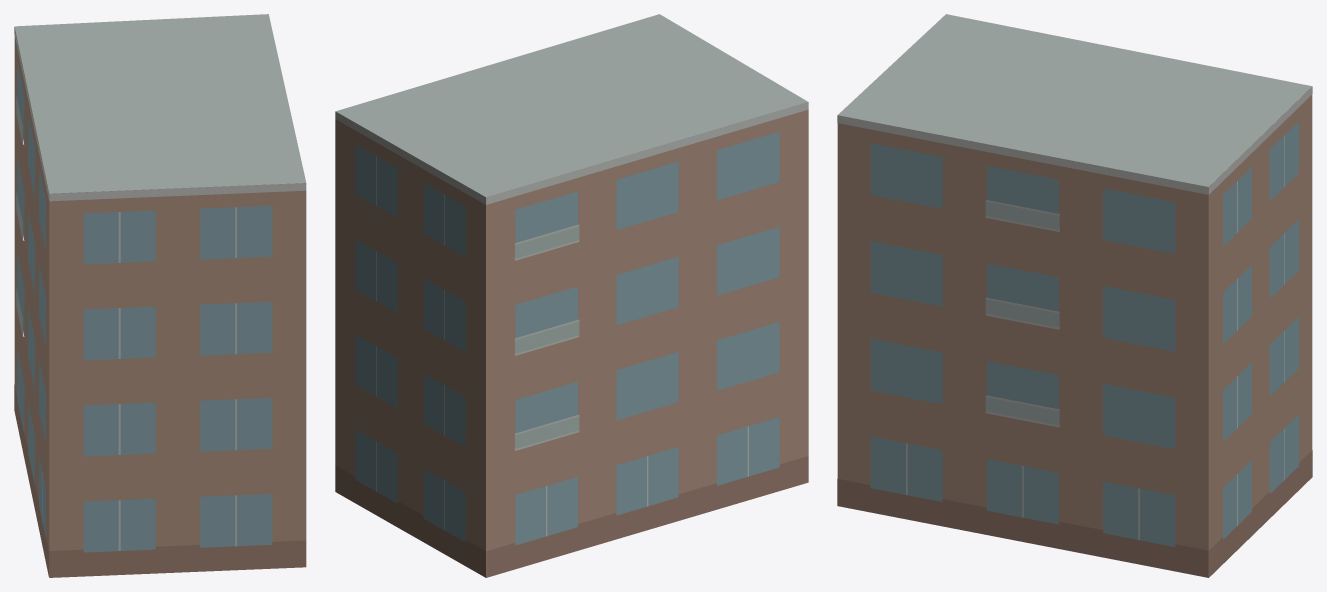
The model's file is survey-upis-32552708.glb.
The picture shows the model from 3 angles, left to right: view 1: azimuth 30°, elevation 25°; view 2: azimuth 150°, elevation 25°; view 3: azimuth 270°, elevation 25°; orthographic projection. The views are drawn at different scales.
Parts seen in each view (by area): view 1: survey-upis-32552708.tmp; view 2: survey-upis-32552708.tmp; view 3: survey-upis-32552708.tmp.
Boxes of the visible parts, x1,y1,x2,y2 form: survey-upis-32552708.tmp: (14,14,306,577); survey-upis-32552708.tmp: (335,14,808,577); survey-upis-32552708.tmp: (837,14,1312,577).
Bounding box in the file's own units: 11.6 × 12.2 × 13.45.
